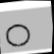no answer: (0, 20, 40, 53)
